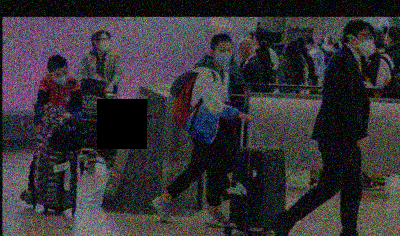with_mask: (356, 31, 377, 57), (215, 45, 233, 66), (50, 68, 69, 86), (97, 36, 111, 52)
